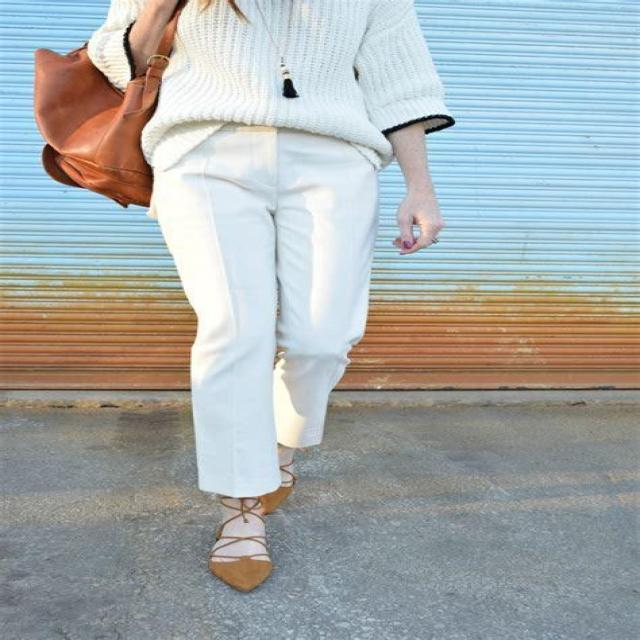pants: (154, 127, 382, 499)
sweater: (88, 0, 457, 160)
